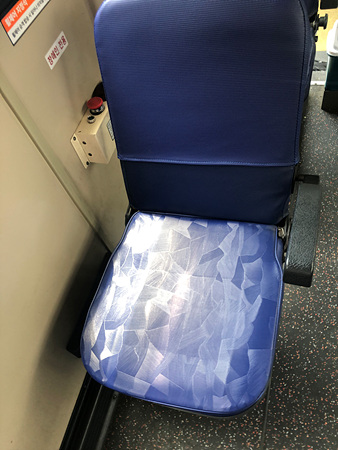seat: (79, 2, 306, 412)
